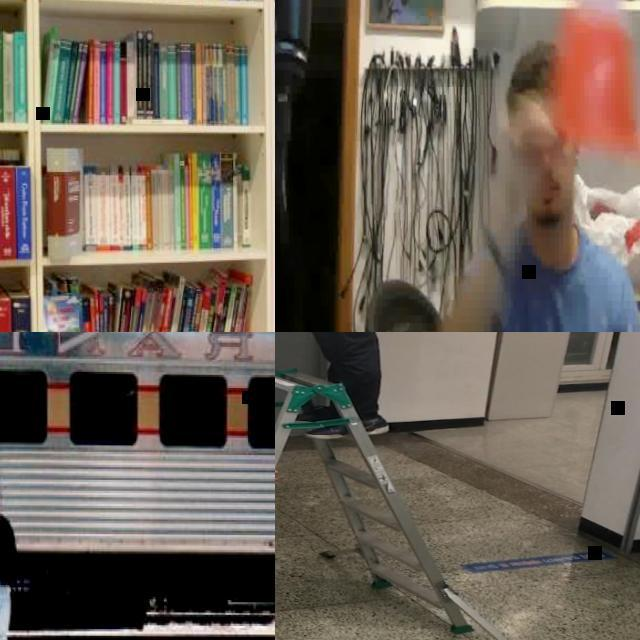no_helmet: (504, 42, 558, 96)
no_mask: (532, 156, 576, 226)
no_vest: (484, 227, 616, 332), (0, 516, 11, 586)
person: (431, 44, 640, 332), (275, 332, 403, 436), (0, 476, 16, 640)
safety_cone: (531, 0, 640, 172)
